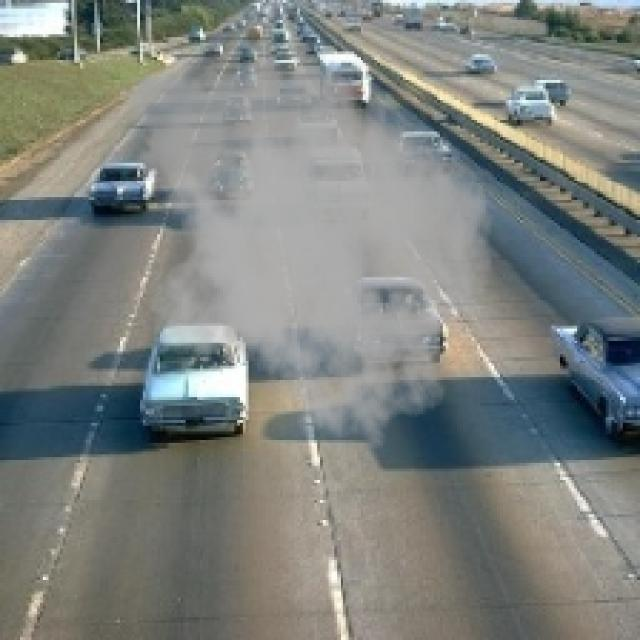Smoke: (112, 46, 494, 452)
